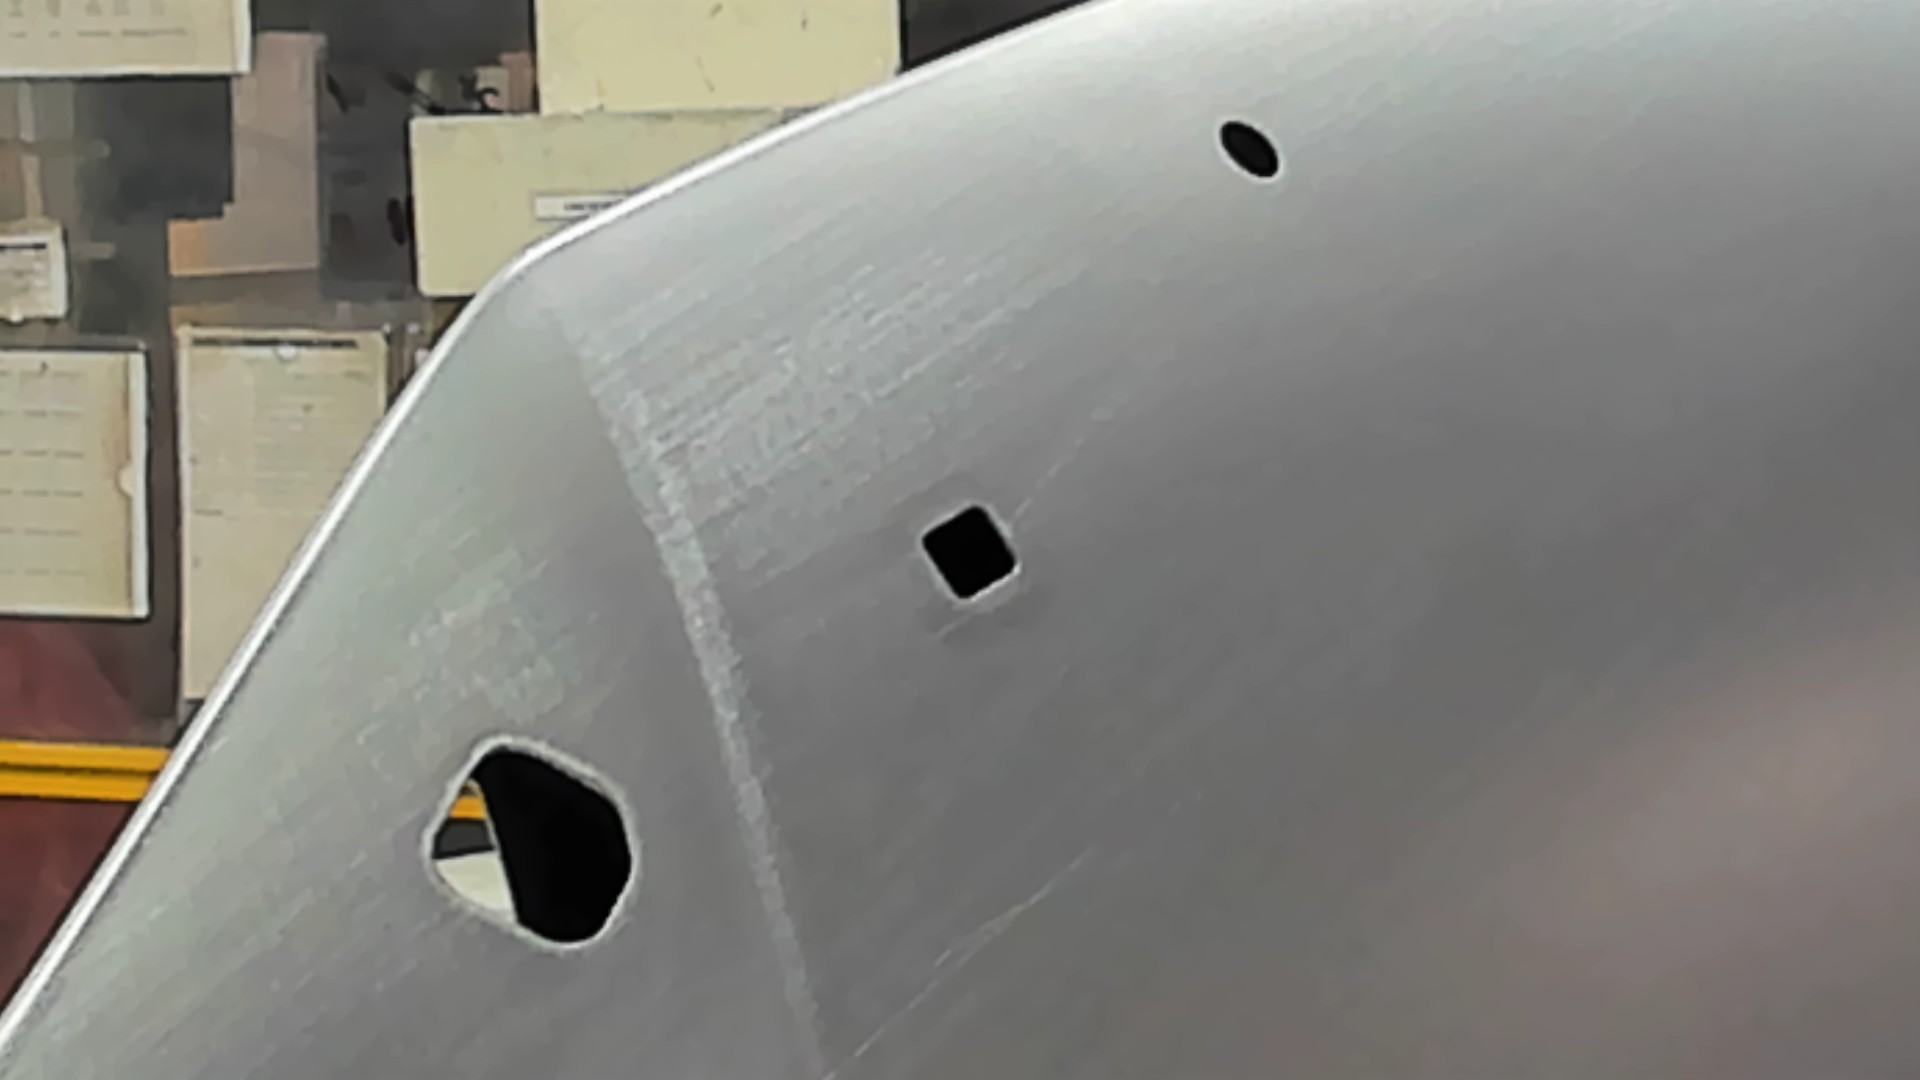chico: (1213, 115, 1283, 183)
grande: (418, 731, 641, 956)
mediano: (915, 498, 1021, 603)
